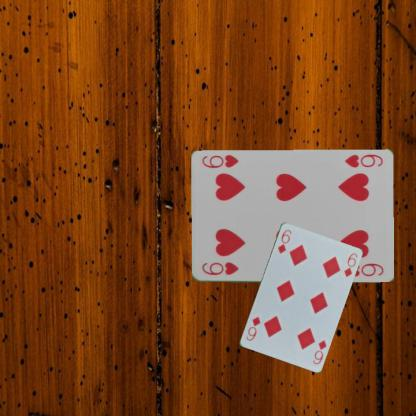6d: (310, 337, 328, 366), (275, 227, 292, 255)
6h: (342, 152, 384, 169), (199, 260, 240, 276)
